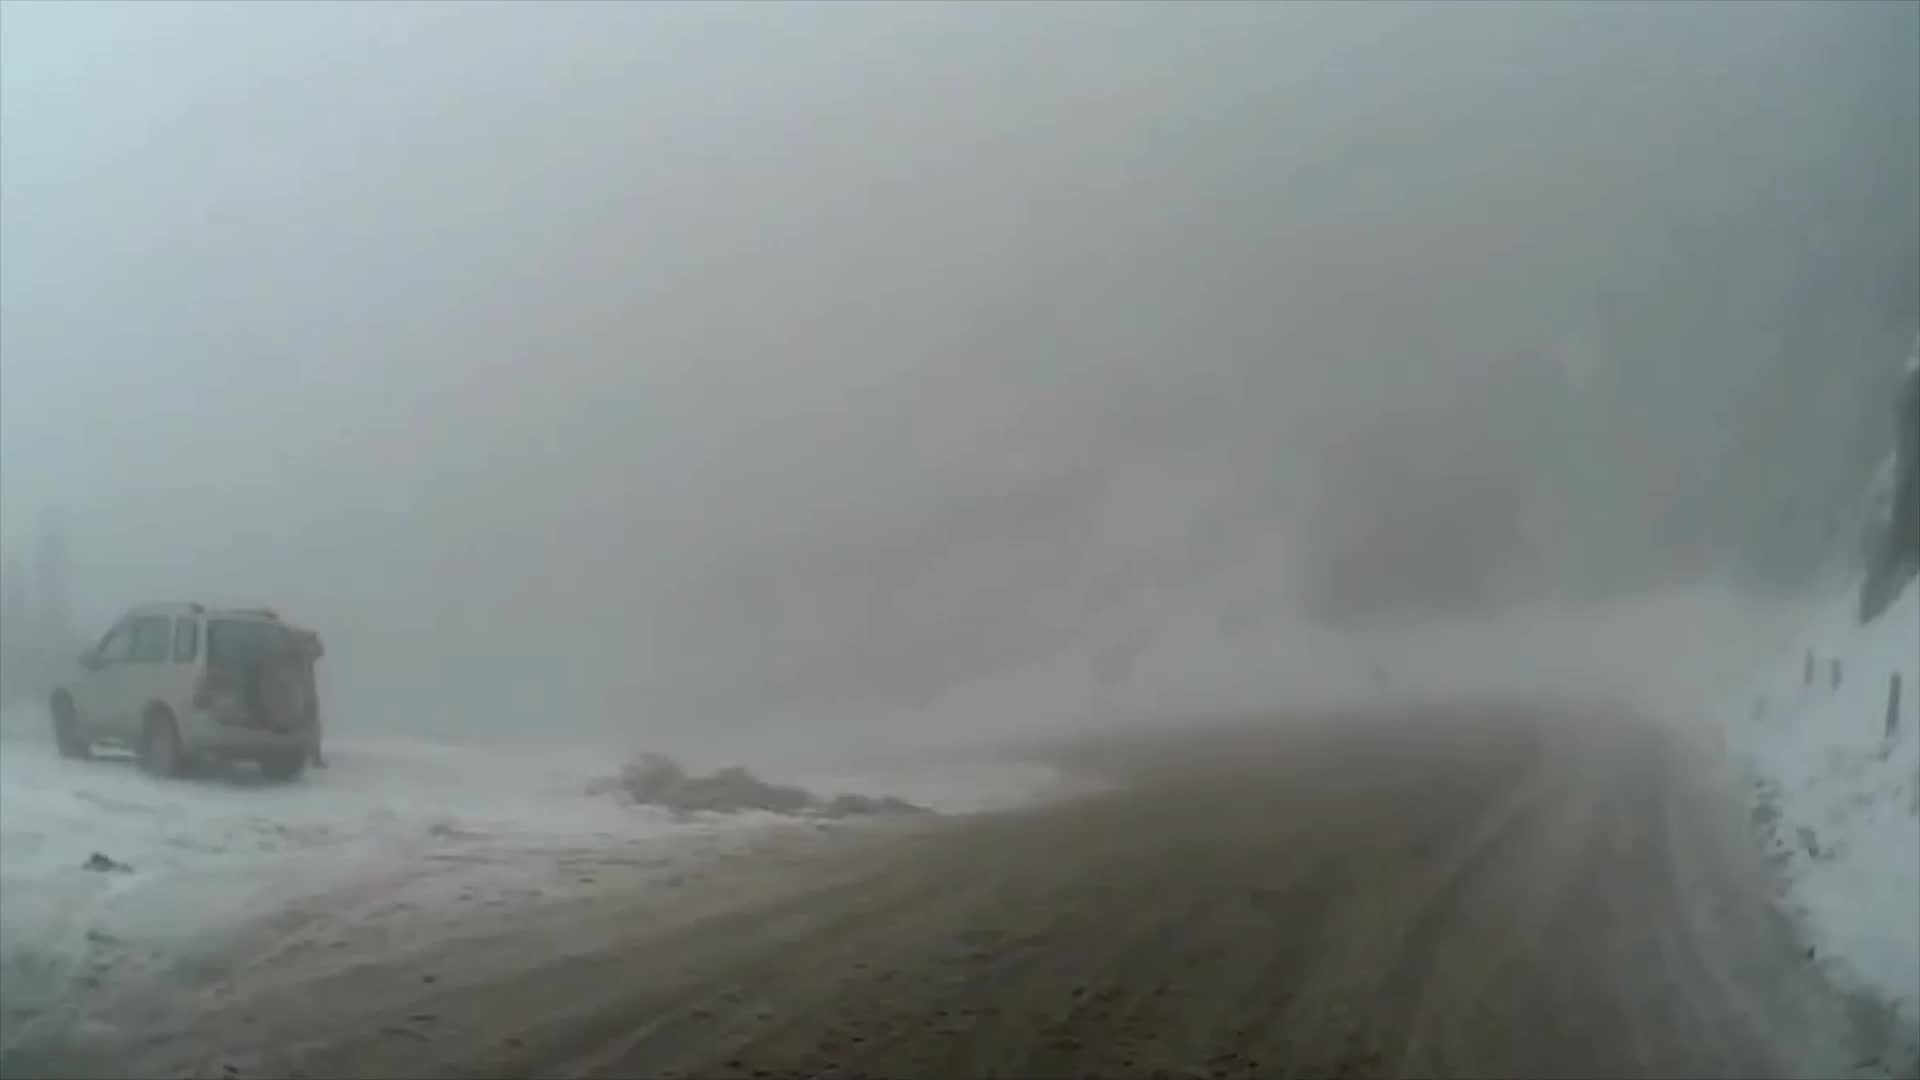vehicle: (44, 600, 310, 783)
